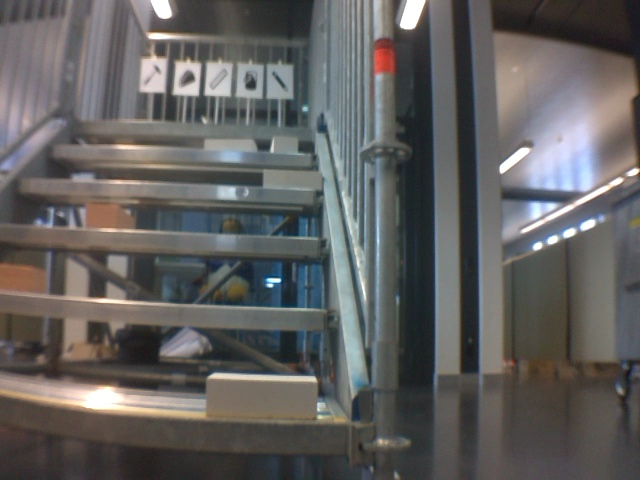brick: (207, 373, 316, 419), (1, 264, 44, 294), (86, 204, 134, 229), (262, 170, 321, 188), (205, 139, 257, 152), (270, 137, 297, 153)
bucket: (238, 68, 259, 93)
edge: (1, 395, 348, 456), (0, 296, 338, 332), (1, 224, 329, 256), (18, 178, 325, 204), (49, 145, 318, 166), (75, 120, 311, 140)
hammer: (142, 62, 163, 88)
pencil: (271, 68, 289, 93)
ruler: (208, 66, 230, 93)
stairs: (4, 2, 409, 479)
taco: (177, 66, 196, 90)
